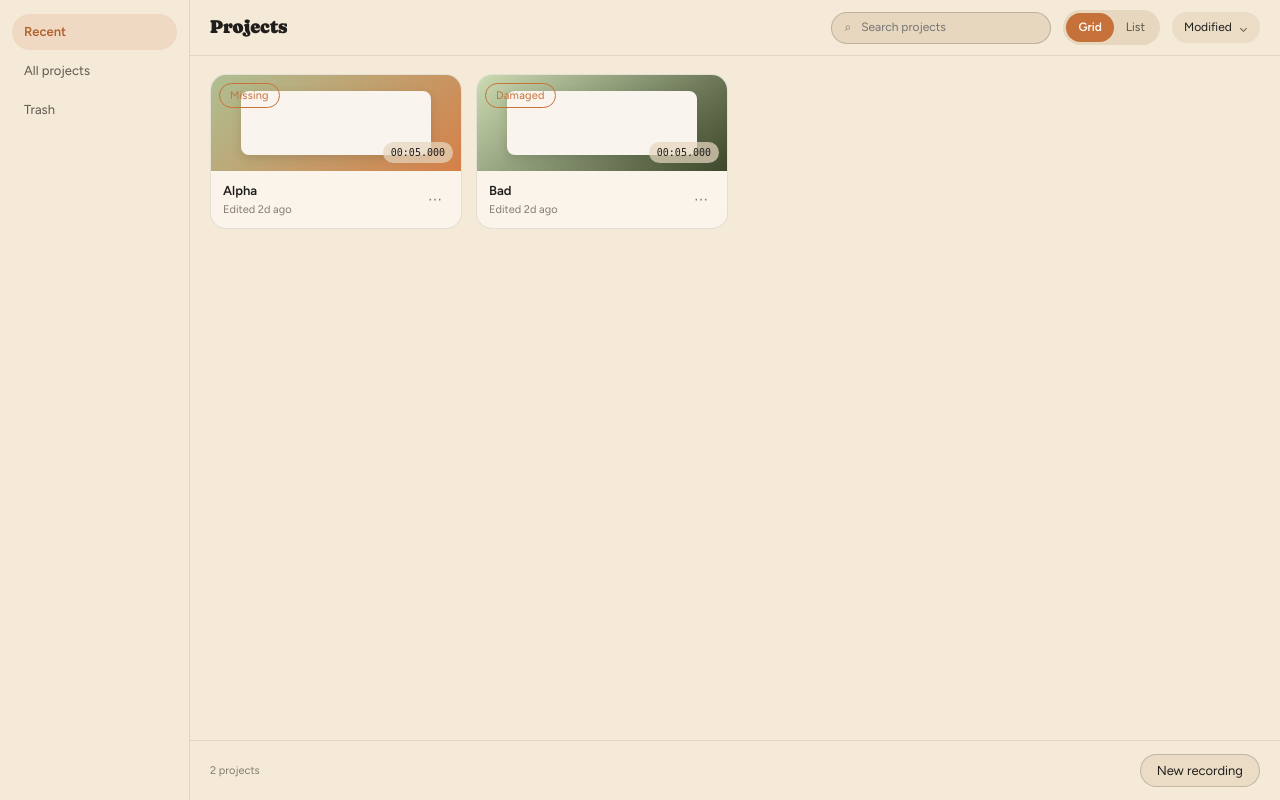
Scenario: ProjectsContainer: actions › missing / damaged projects explain instead of opening
Expected: the text "Missing" is shown, [219,83,280,108]
Click the button with aria-label "Open Alpha".
click(336, 152)  # box [210,74,462,229]
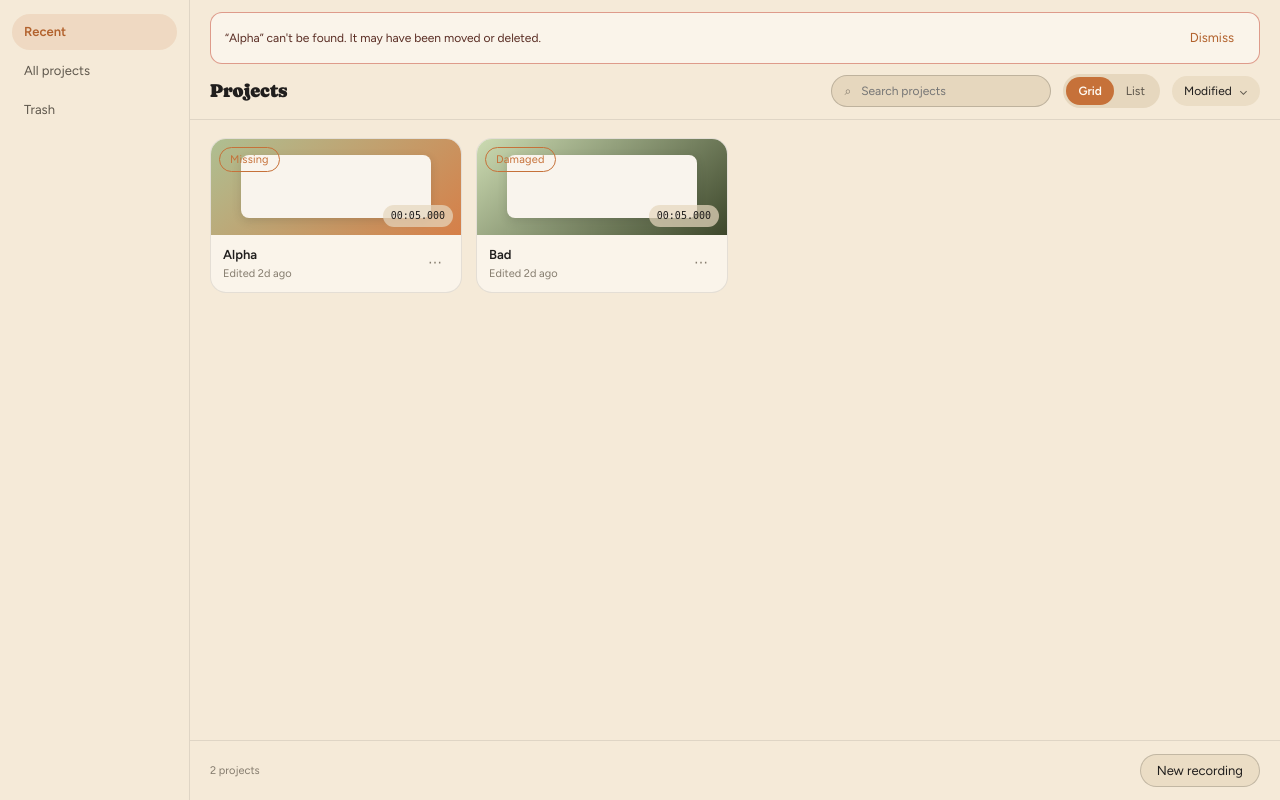
Expected: the message shows "can't be found", [225,30,541,44]
Click the button with aria-label "Open Bad".
click(602, 215)  # box [476,138,728,293]
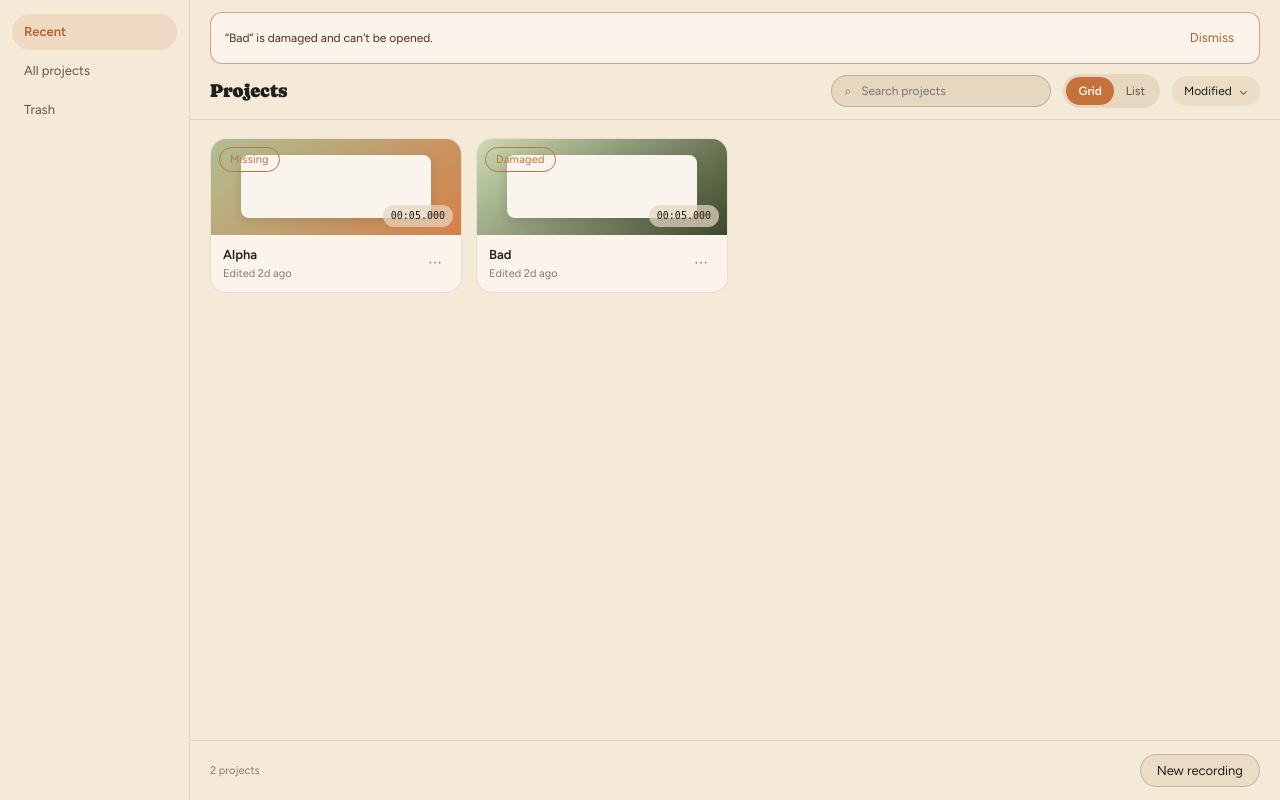
Expected: the message shows "damaged", [225,30,433,44]
Click the button "Dismiss".
click(1212, 38)  # box [1173,21,1251,55]
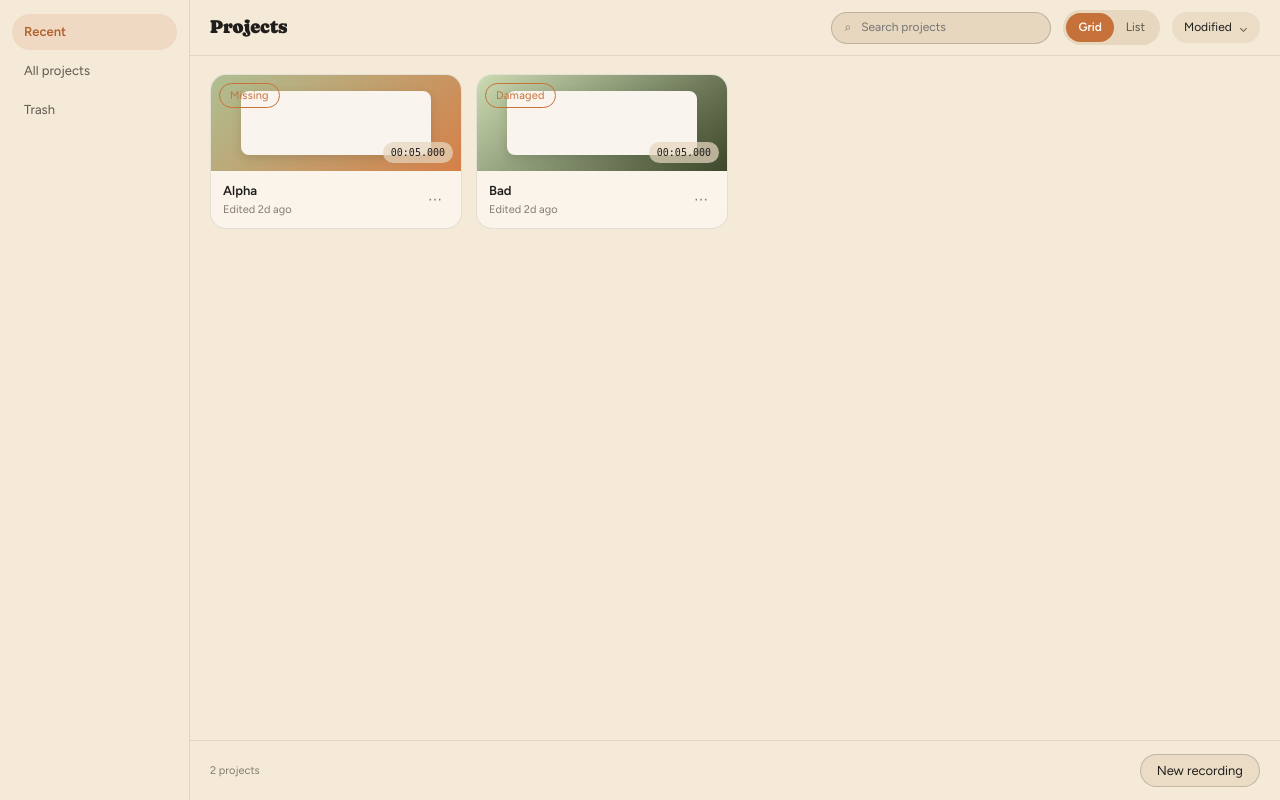
Expected: the message "“Bad” is damaged and can't be opened. Dismiss" is gone
